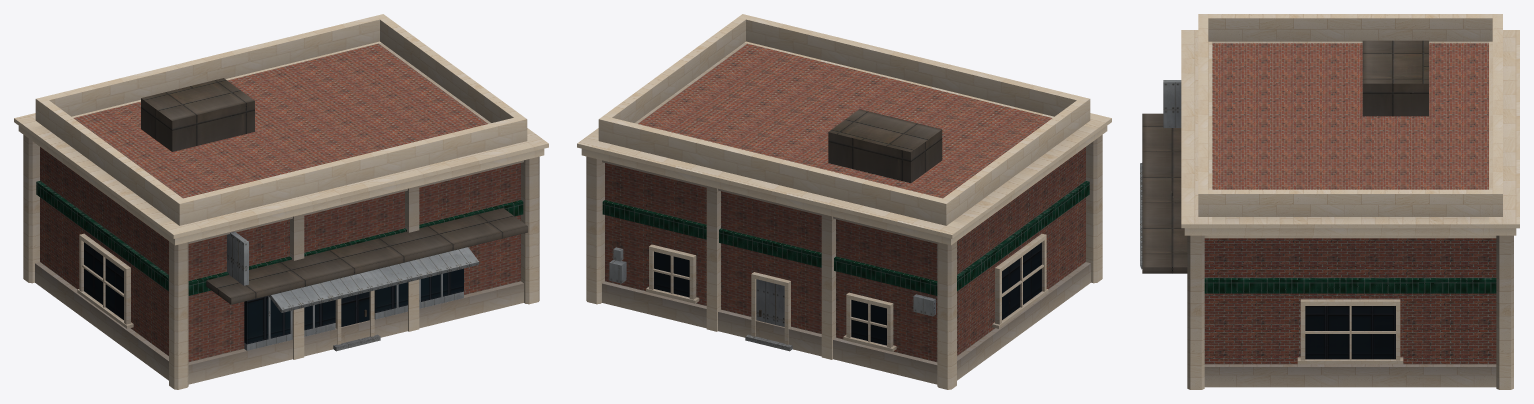
Rendered from paws-claws-pet-store_lod0.gltf.
3 views of the same model, side by side, from view 1: azimuth 30°, elevation 25°; view 2: azimuth 150°, elevation 25°; view 3: azimuth 270°, elevation 25° (orthographic). The views are drawn at different scales.
Parts seen in each view (by area): view 1: paws-claws-pet-store__v4_stone_detail, paws-claws-pet-store__parapet, paws-claws-pet-store_main, paws-claws-pet-store__v4_metal_detail, paws-claws-pet-store_fen_07-glass-curtain-blue_1_t, paws-claws-pet-store__awning, paws-claws-pet-store__tile_band, paws-claws-pet-store_fen_04-limestone_0, paws-claws-pet-store_fen_14-steel-panel_4, paws-claws-pet-store__blade_sign; view 2: paws-claws-pet-store__v4_stone_detail, paws-claws-pet-store_main, paws-claws-pet-store__parapet, paws-claws-pet-store__tile_band, paws-claws-pet-store__v4_metal_detail, paws-claws-pet-store_fen_04-limestone_0, paws-claws-pet-store_fen_07-glass-curtain-blue_1_t, paws-claws-pet-store_fen_14-steel-panel_4; view 3: paws-claws-pet-store__v4_stone_detail, paws-claws-pet-store__parapet, paws-claws-pet-store_main, paws-claws-pet-store__v4_metal_detail, paws-claws-pet-store__tile_band, paws-claws-pet-store_fen_07-glass-curtain-blue_1_t, paws-claws-pet-store_fen_04-limestone_0, paws-claws-pet-store__blade_sign.
Part boxes in pixels (bbox=[...]): paws-claws-pet-store__v4_stone_detail: bbox=[14, 14, 548, 389]; paws-claws-pet-store__parapet: bbox=[73, 43, 487, 198]; paws-claws-pet-store_main: bbox=[40, 147, 520, 362]; paws-claws-pet-store__v4_metal_detail: bbox=[141, 78, 527, 304]; paws-claws-pet-store_fen_07-glass-curtain-blue_1_t: bbox=[84, 242, 463, 344]; paws-claws-pet-store__awning: bbox=[268, 247, 479, 312]; paws-claws-pet-store__tile_band: bbox=[36, 181, 523, 295]; paws-claws-pet-store_fen_04-limestone_0: bbox=[77, 233, 374, 344]; paws-claws-pet-store_fen_14-steel-panel_4: bbox=[244, 274, 463, 350]; paws-claws-pet-store__blade_sign: bbox=[227, 231, 248, 285]; paws-claws-pet-store__v4_stone_detail: bbox=[577, 14, 1111, 389]; paws-claws-pet-store_main: bbox=[605, 147, 1085, 362]; paws-claws-pet-store__parapet: bbox=[638, 43, 1052, 198]; paws-claws-pet-store__tile_band: bbox=[602, 181, 1089, 295]; paws-claws-pet-store__v4_metal_detail: bbox=[828, 109, 942, 183]; paws-claws-pet-store_fen_04-limestone_0: bbox=[646, 233, 1048, 351]; paws-claws-pet-store_fen_07-glass-curtain-blue_1_t: bbox=[654, 242, 1041, 345]; paws-claws-pet-store_fen_14-steel-panel_4: bbox=[609, 247, 935, 326]; paws-claws-pet-store__v4_stone_detail: bbox=[1181, 14, 1519, 389]; paws-claws-pet-store__parapet: bbox=[1212, 43, 1488, 189]; paws-claws-pet-store_main: bbox=[1204, 238, 1496, 364]; paws-claws-pet-store__v4_metal_detail: bbox=[1142, 40, 1428, 273]; paws-claws-pet-store__tile_band: bbox=[1204, 278, 1496, 293]; paws-claws-pet-store_fen_07-glass-curtain-blue_1_t: bbox=[1305, 306, 1395, 359]; paws-claws-pet-store_fen_04-limestone_0: bbox=[1297, 299, 1403, 364]; paws-claws-pet-store__blade_sign: bbox=[1163, 80, 1181, 127].
Size of the model in its own units: 15.22 by 7.35 by 12.58.
